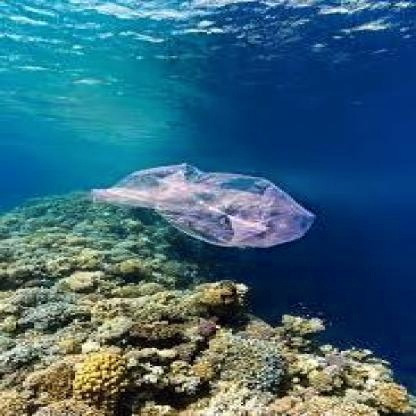pbag: (89, 162, 314, 246)
